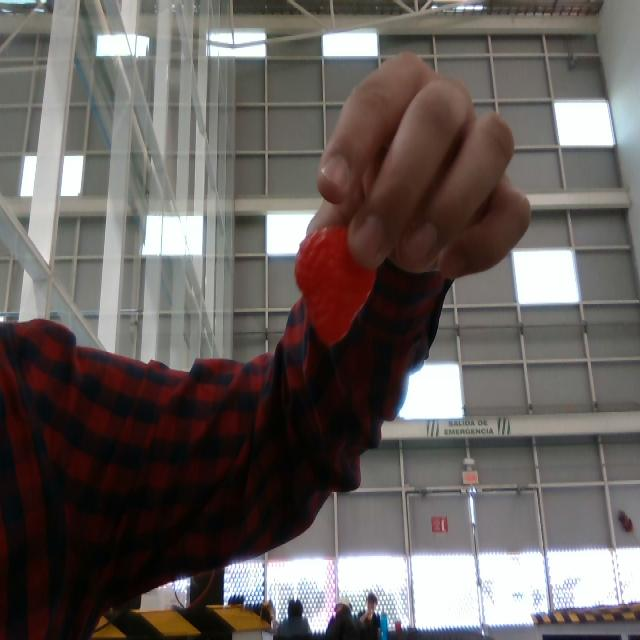chica_roja: (295, 227, 374, 344)
